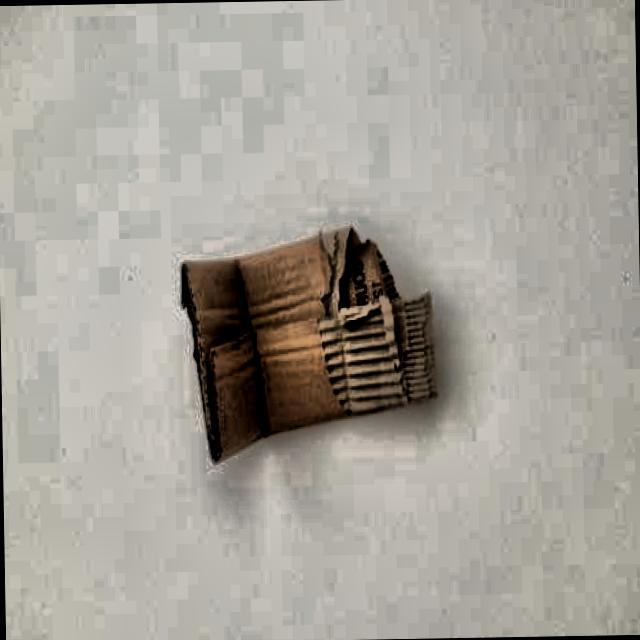cardboard: (177, 224, 439, 466)
